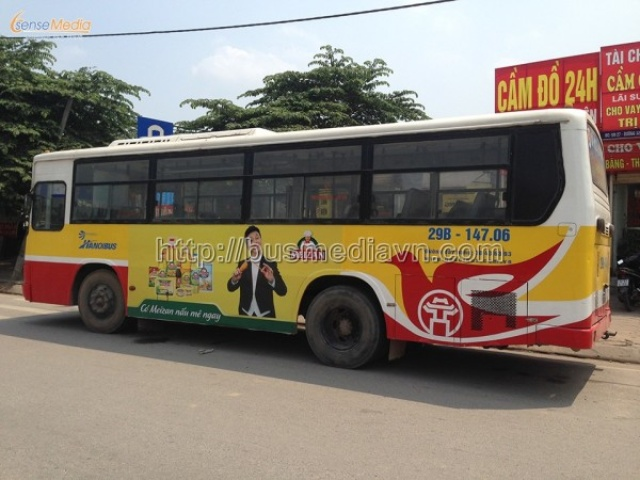Xe_buyt: (25, 107, 613, 369)
